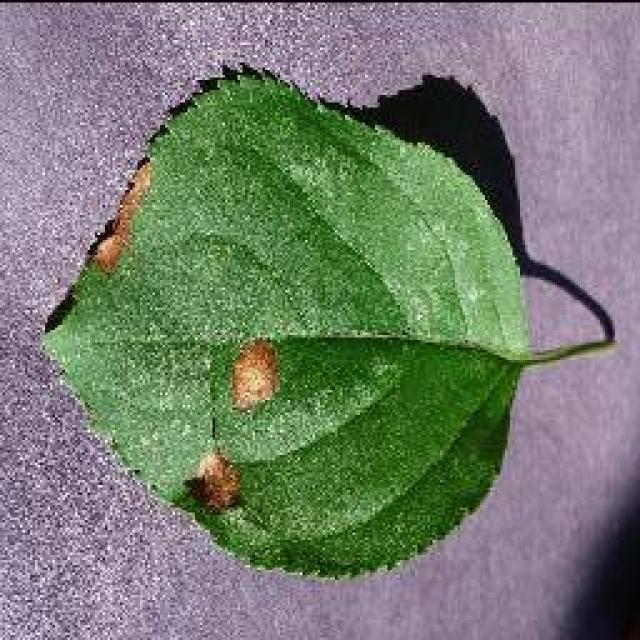apple black rot: (37, 60, 615, 582)
